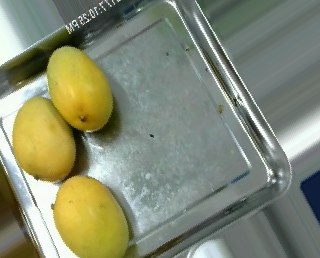Mango: (53, 176, 129, 257), (46, 46, 114, 130), (13, 96, 76, 180)
